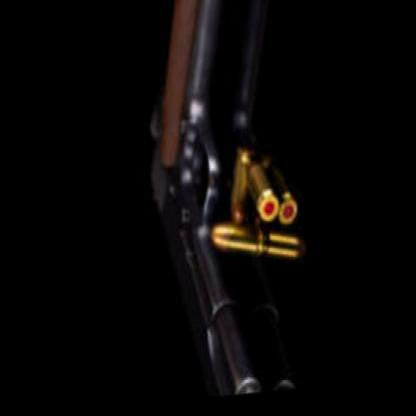pistol: (110, 0, 300, 404)
